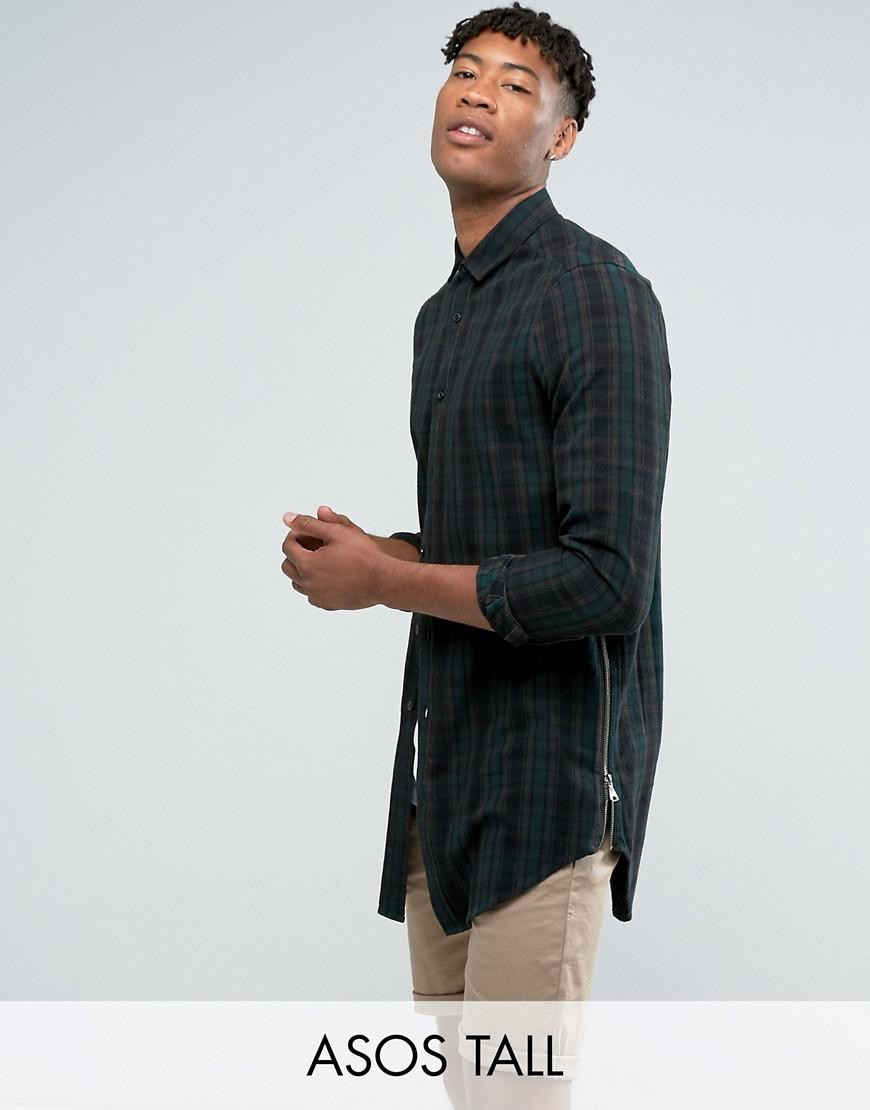teeshirt: (301, 215, 669, 917)
